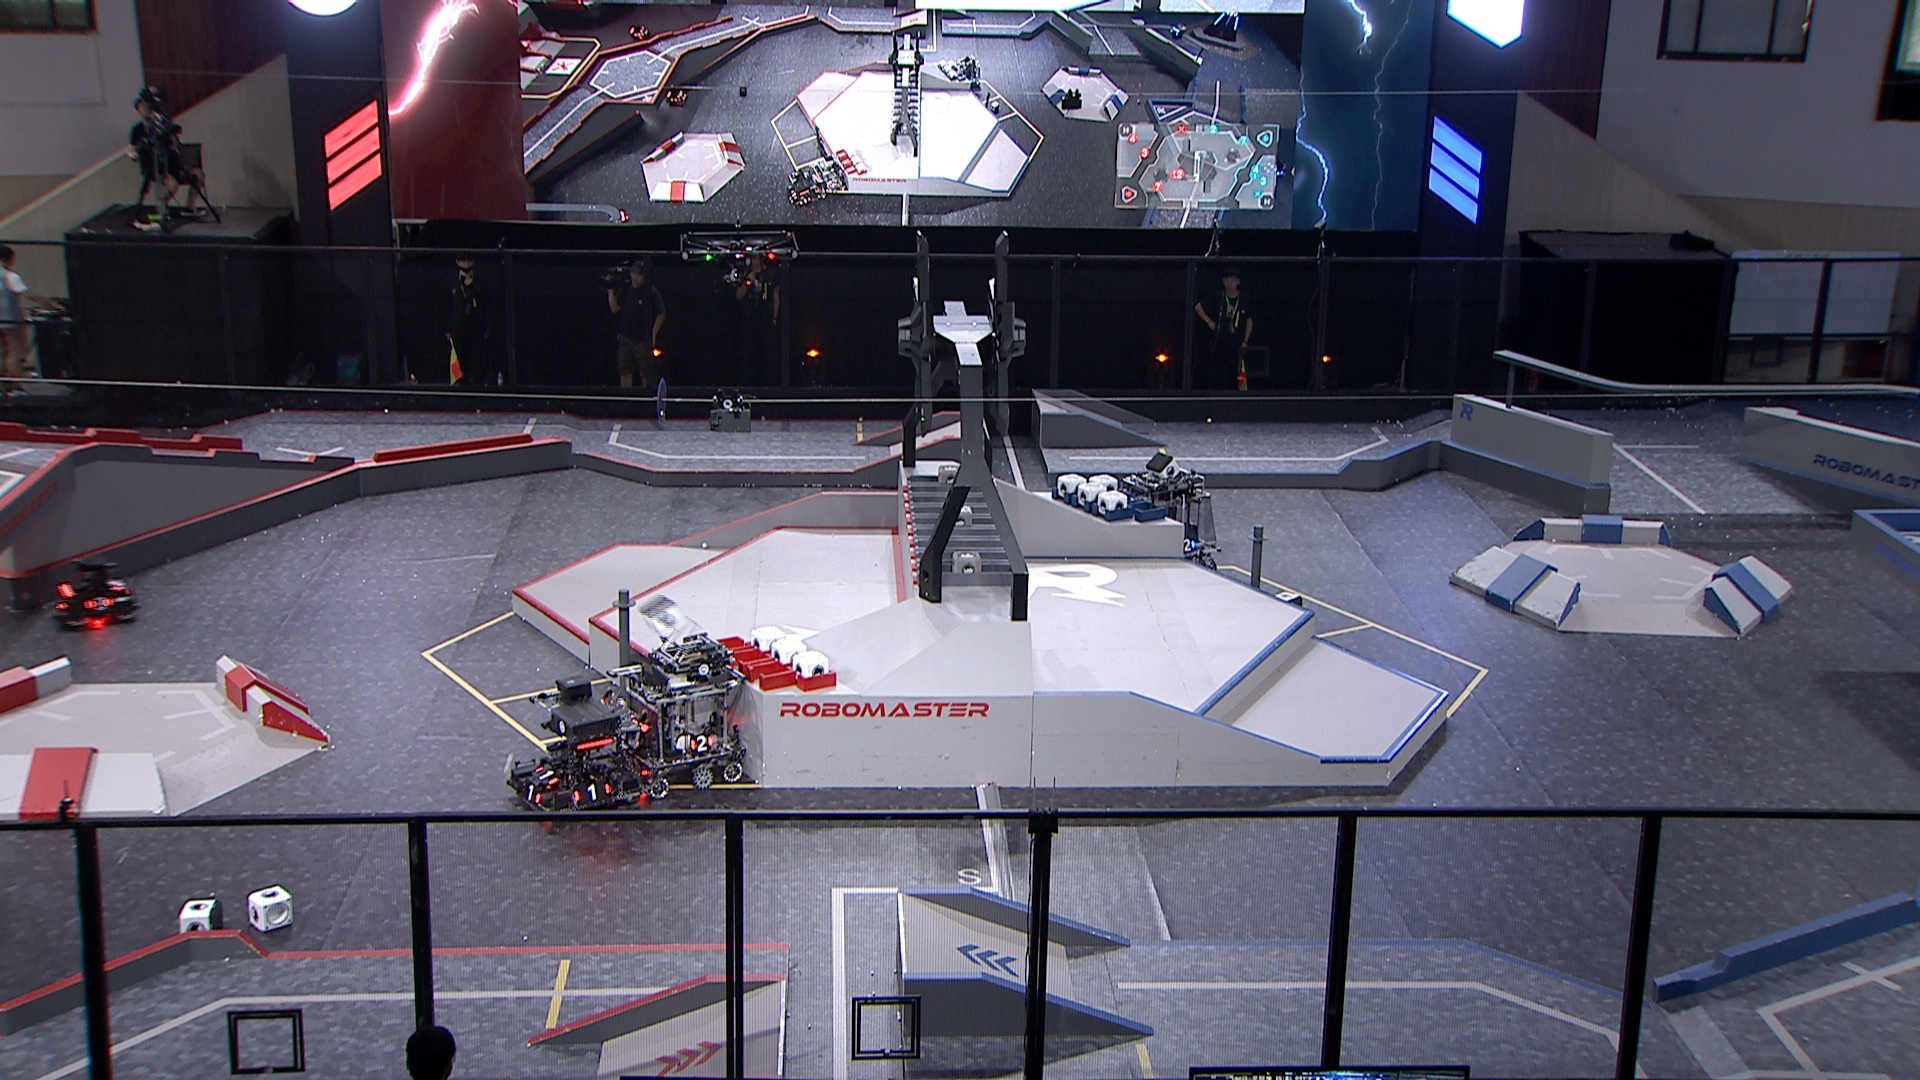armor: (568, 779, 612, 806), (520, 779, 547, 808), (684, 732, 717, 756), (80, 593, 116, 615), (102, 572, 131, 595), (533, 764, 556, 787), (1179, 537, 1200, 555)
car: (603, 637, 746, 800), (508, 676, 655, 833), (1116, 469, 1221, 582), (47, 551, 140, 632)
ignore: (785, 162, 825, 208), (814, 160, 849, 200), (1205, 8, 1242, 41), (953, 57, 986, 91), (626, 21, 651, 44), (665, 88, 686, 107), (1168, 22, 1188, 41)
